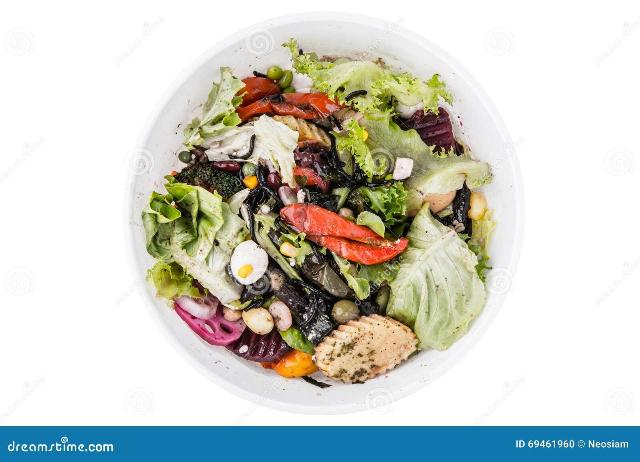Garbage: (141, 41, 491, 388)
